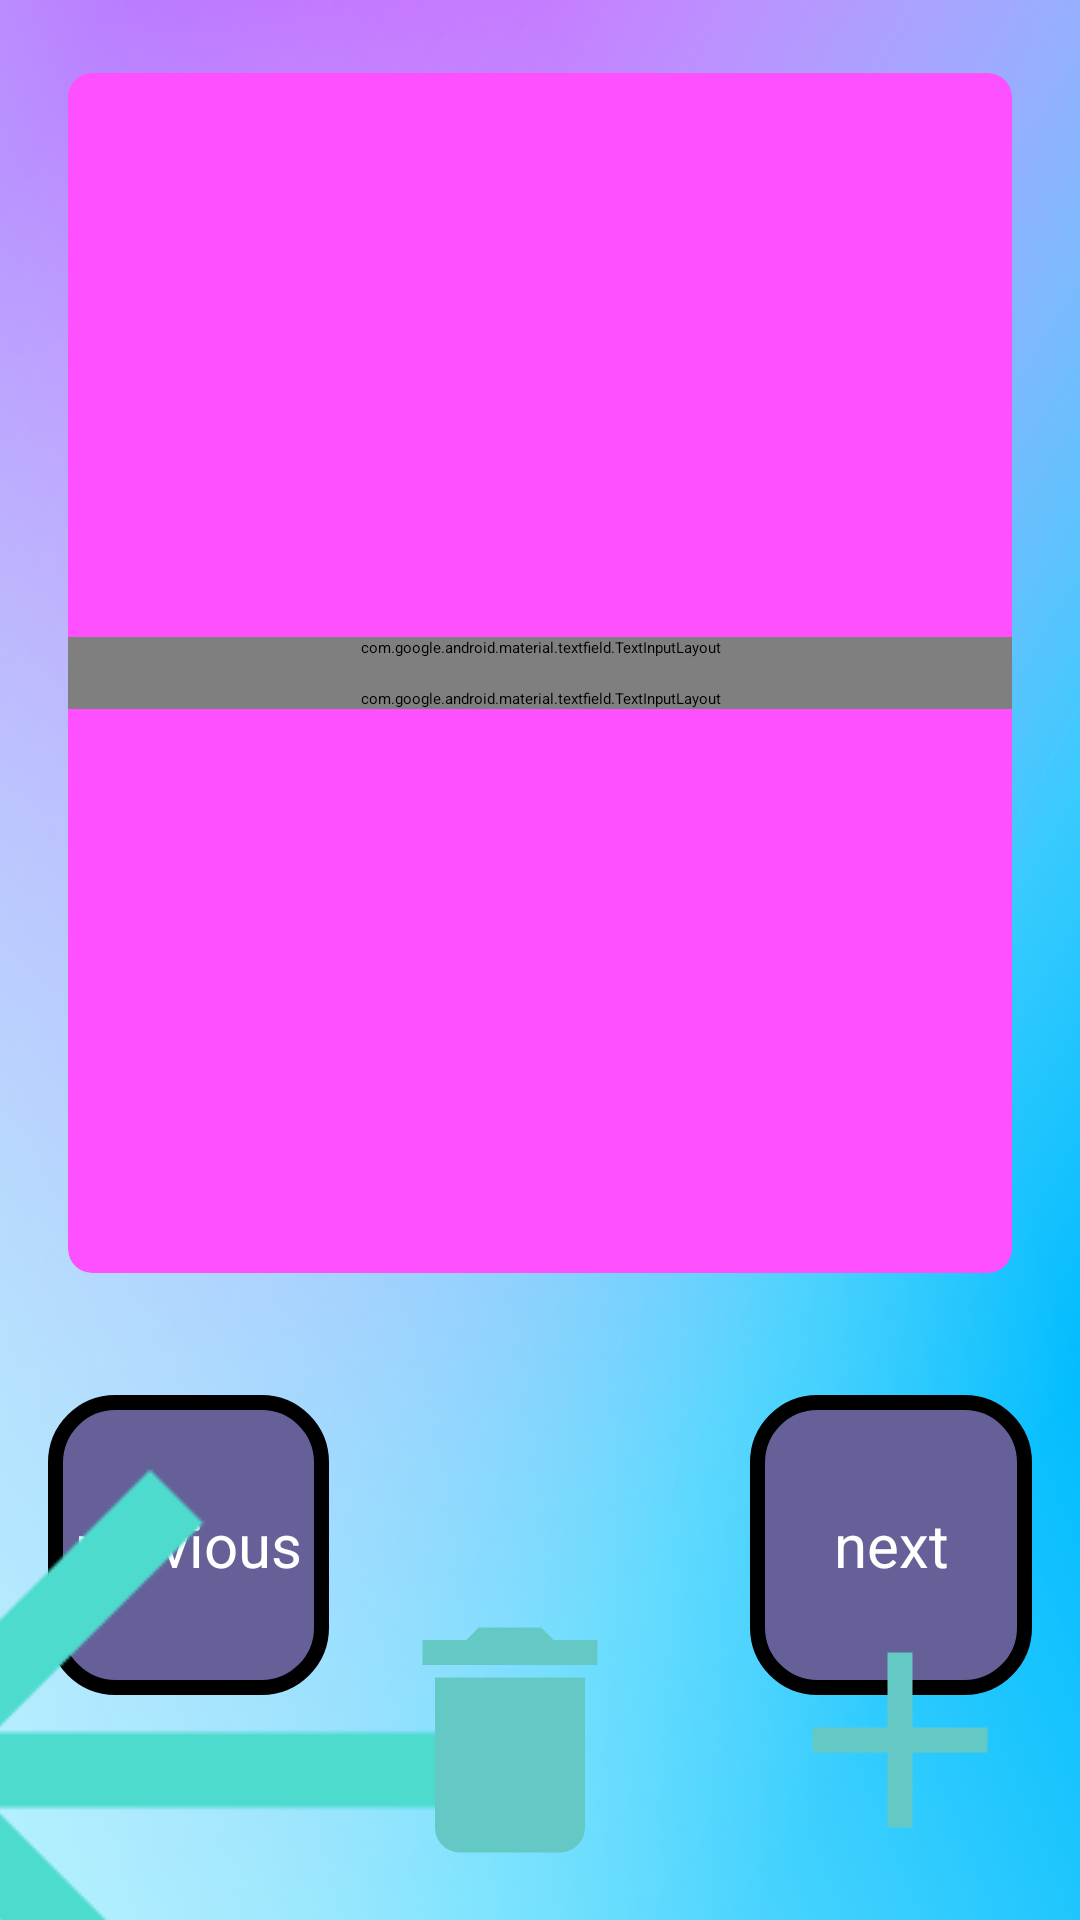

Icon click points for this 1080×1920 phone screenshot, format (x=x, y=y):
delete: (x=510, y=1740)
